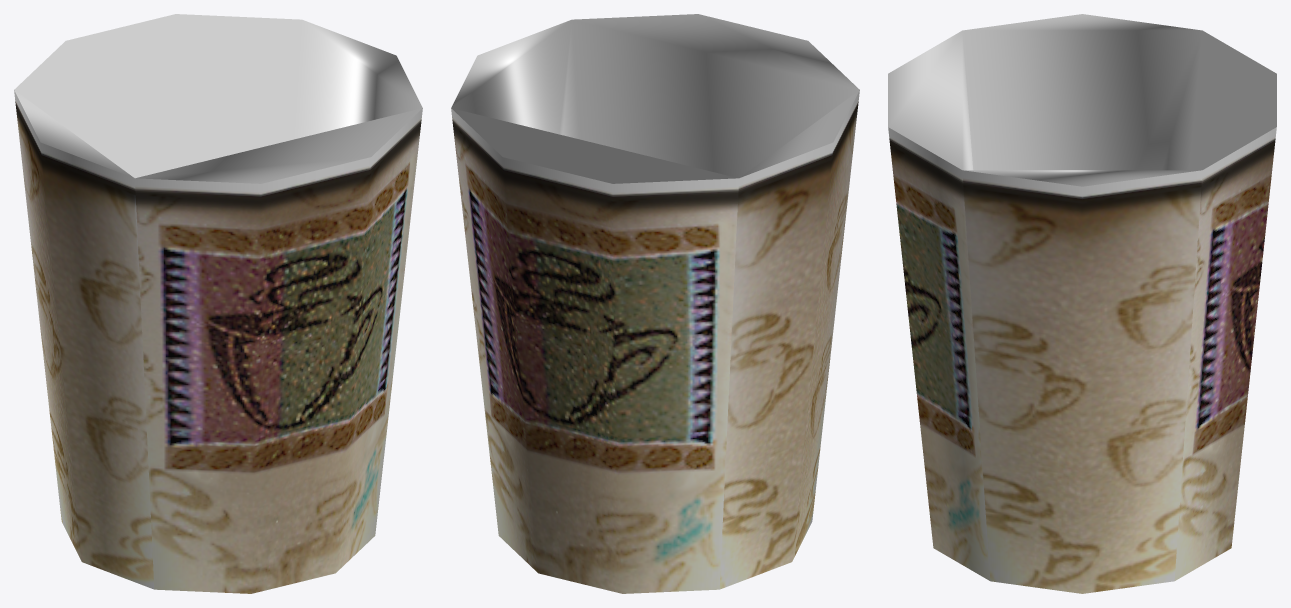
File: Office_CoffeeCup_1.fbx
The picture shows the model from 3 angles, left to right: view 1: azimuth 30°, elevation 25°; view 2: azimuth 150°, elevation 25°; view 3: azimuth 270°, elevation 25°; orthographic projection.
Visible parts, largest first — view 1: Office_CoffeeCup_1; view 2: Office_CoffeeCup_1; view 3: Office_CoffeeCup_1.
Part boxes in pixels (x1,y1,x2,y2): Office_CoffeeCup_1: (14,14,422,593); Office_CoffeeCup_1: (451,14,859,593); Office_CoffeeCup_1: (888,14,1276,593).
Size of the model in its own units: 8.3 by 9.57 by 7.89.
